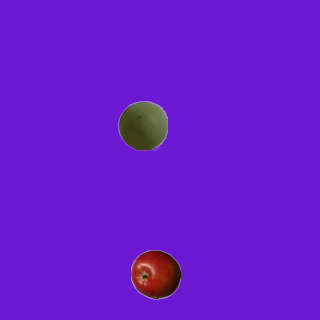Apple Braeburn: (130, 249, 180, 299)
Grape White 4: (117, 100, 167, 150)
